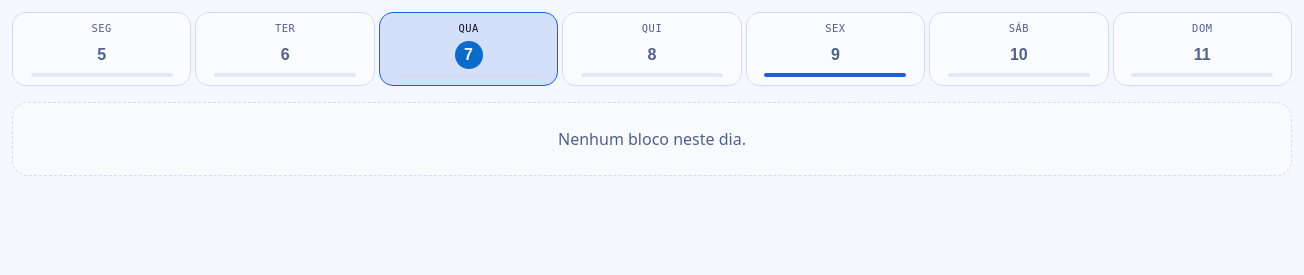
Scenario: DayView › ocorrência movida aparece no dia efetivo, não no original
Expected: the text "Nenhum bloco neste dia." is shown, [12,102,1292,176]
Click the tab with aria-label "sexta-feira" at point(835, 49), box [746,12,925,86]
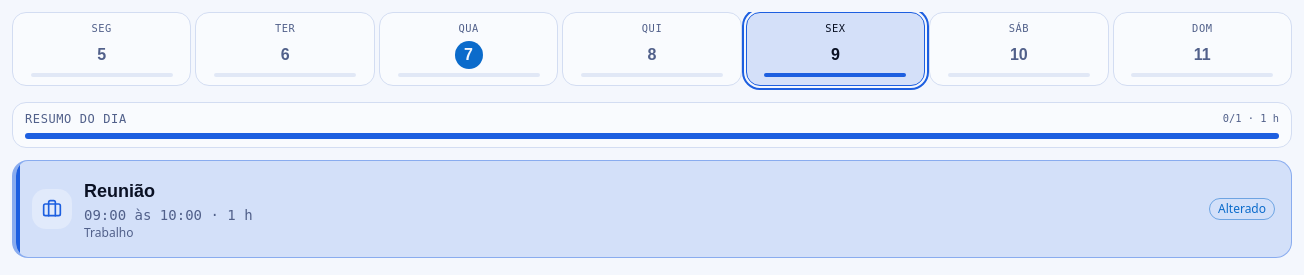
Now the button "Reunião 09:00 às 10:00 · 1 h Trabalho Alterado" is shown, box [12,160,1292,258]
